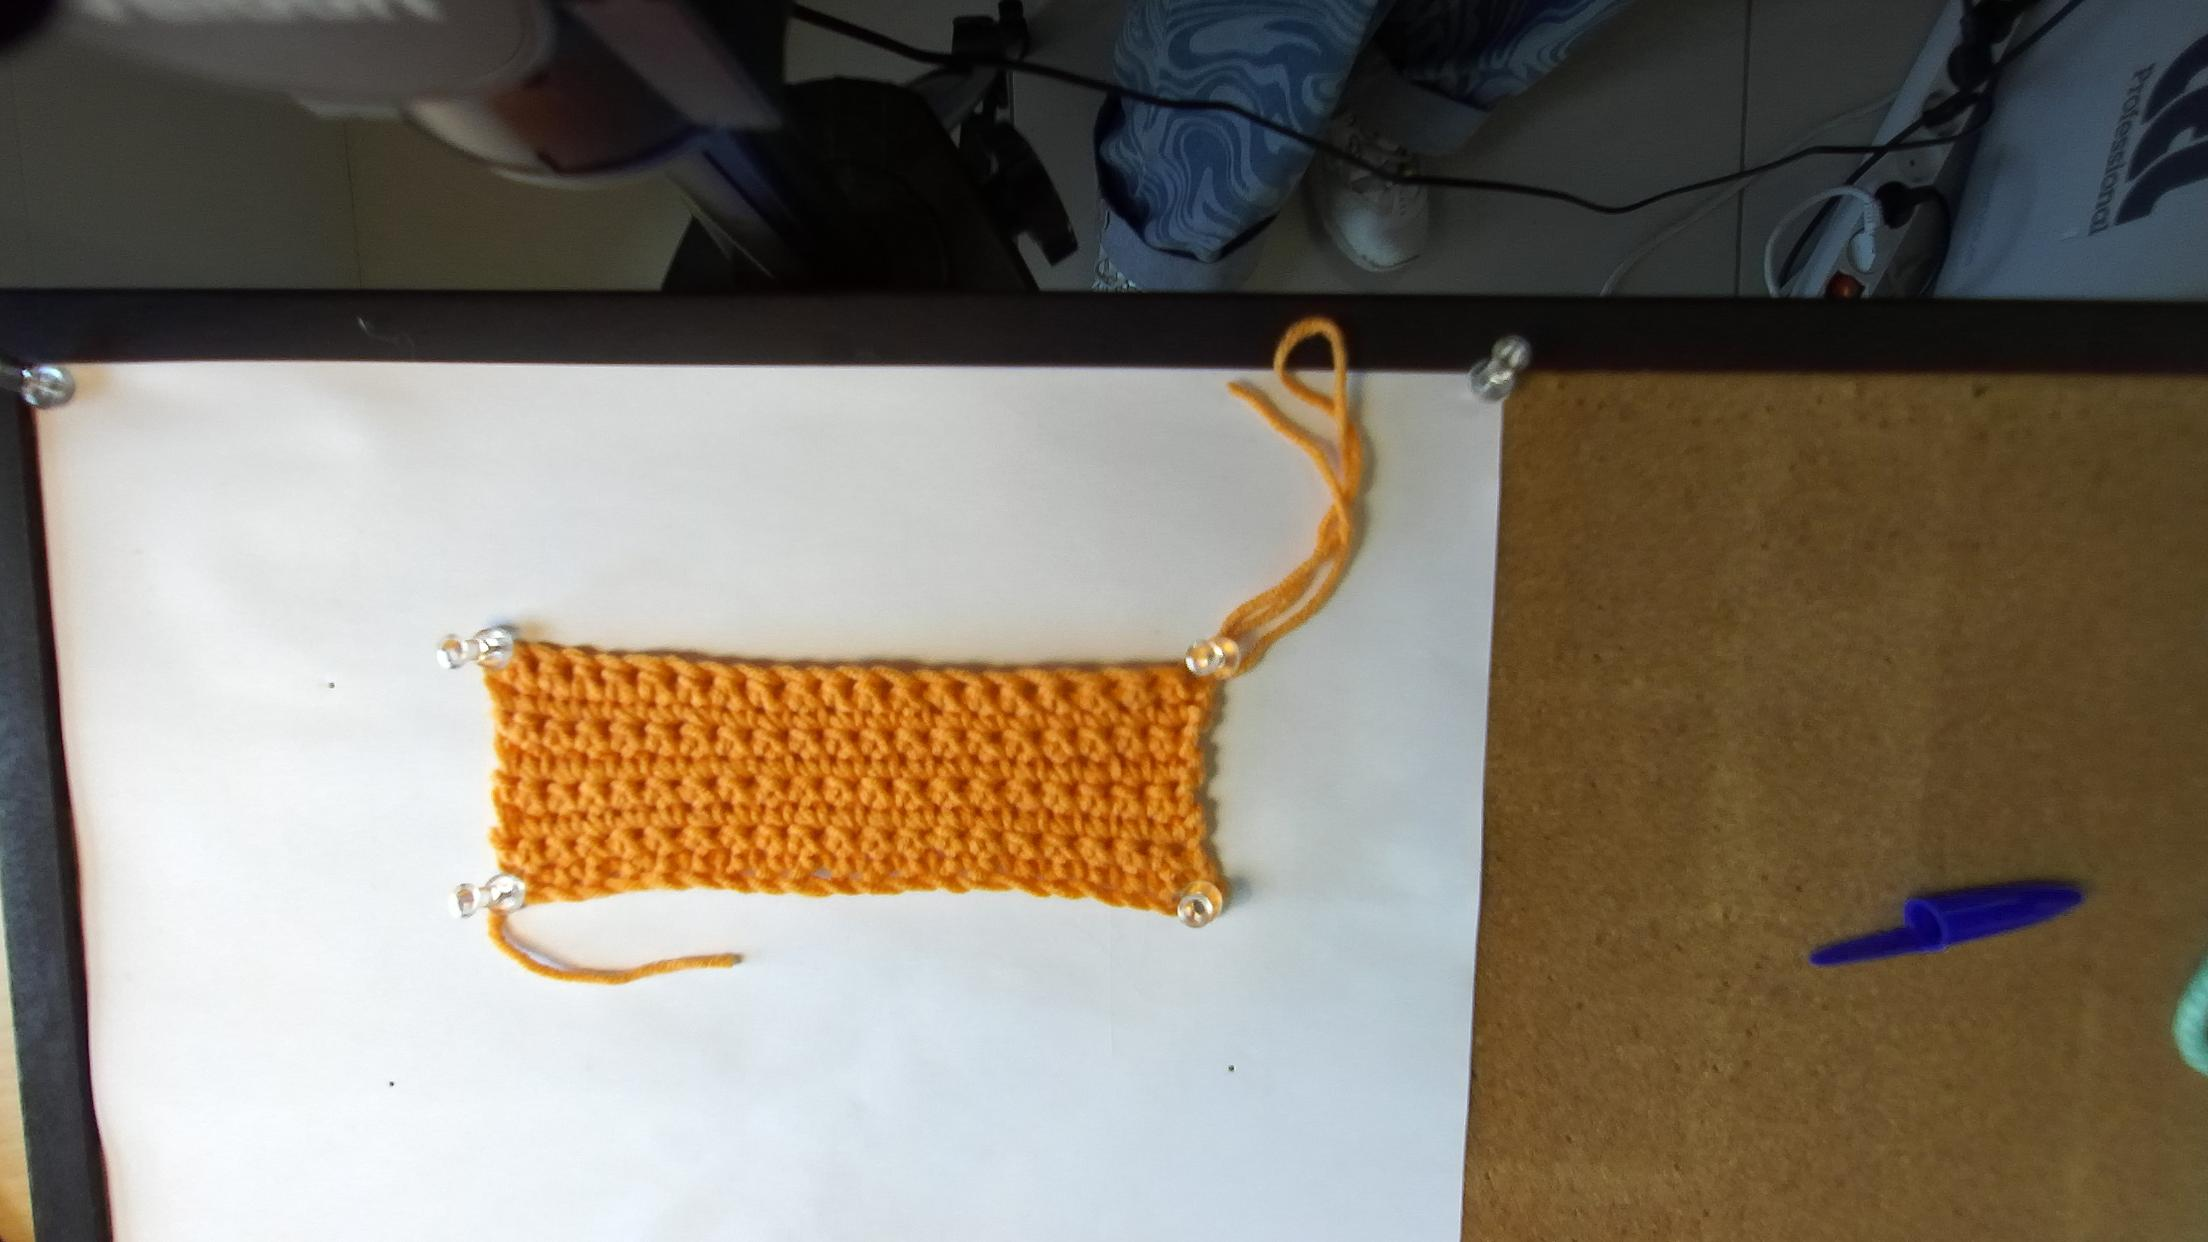hole: (521, 652, 541, 675), (698, 670, 717, 692), (559, 657, 573, 684), (590, 667, 608, 687), (623, 667, 641, 686), (1020, 682, 1039, 699), (663, 666, 679, 686), (842, 678, 857, 697), (879, 680, 894, 697), (986, 682, 1000, 700), (768, 680, 787, 693), (1059, 681, 1075, 696), (953, 681, 967, 696), (916, 682, 930, 696), (735, 675, 746, 692), (811, 678, 822, 694), (1146, 677, 1159, 690), (1106, 679, 1119, 689)
swatch: (476, 642, 1235, 927)
